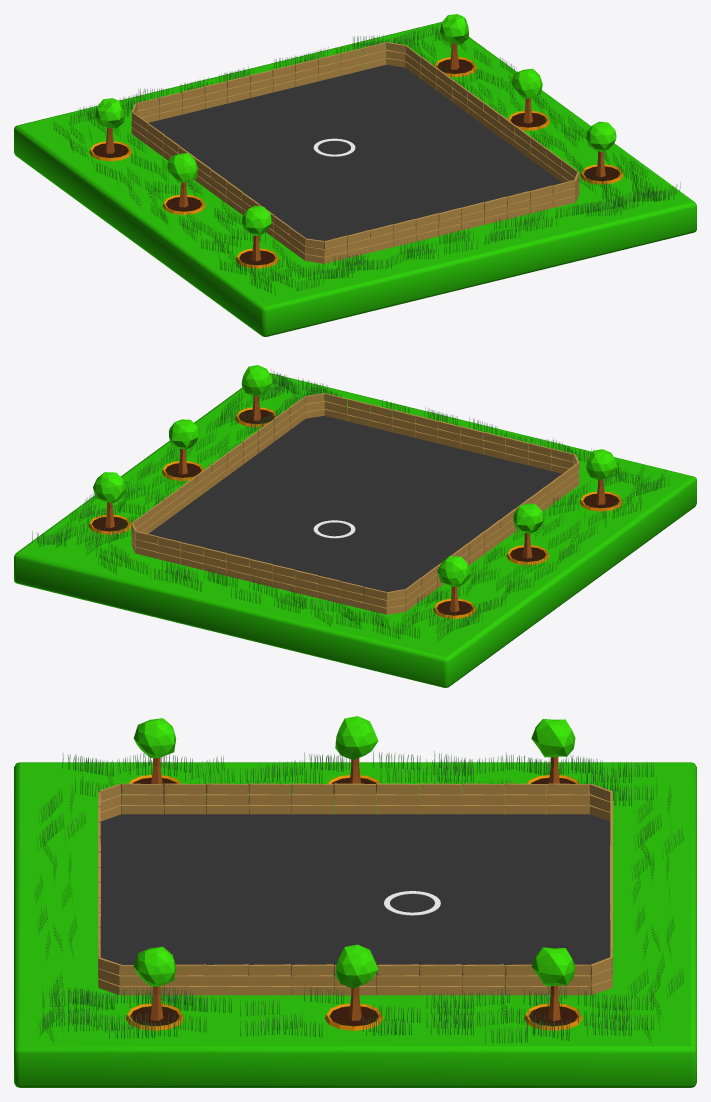
Rendered from map.glb.
3 renders of one model, top to bottom at view 1: azimuth 30°, elevation 25°; view 2: azimuth 150°, elevation 25°; view 3: azimuth 270°, elevation 25°, orthographic. The views are drawn at different scales.
Visible parts, largest first — view 1: Ground, Plane, Cube, grassplane1, Tree.001, Tree.004, Tree.005, Tree.002, Tree, Tree.003, Torus.006, Torus.005 (+4 smaller); view 2: Ground, Plane, Cube, grassplane1, Tree.004, Tree.001, Tree, Tree.003, Tree.005, Tree.002, Torus.005, Torus.004 (+4 smaller); view 3: Ground, Plane, Cube, grassplane1, Tree.002, Tree.001, Tree, Tree.005, Tree.004, Tree.003, Torus.002, Torus.001 (+1 smaller).
Part boxes in pixels (x1,y1,x2,y2): Ground: [14, 22, 696, 336]; Plane: [149, 64, 561, 256]; Cube: [131, 42, 579, 263]; grassplane1: [53, 24, 680, 294]; Tree.001: [440, 14, 468, 69]; Tree.004: [95, 98, 124, 153]; Tree.005: [167, 152, 197, 207]; Tree.002: [512, 68, 542, 123]; Tree: [586, 121, 616, 177]; Tree.003: [242, 205, 271, 261]; Torus.006: [89, 141, 132, 161]; Torus.005: [162, 195, 205, 214]; Ground: [14, 373, 696, 687]; Plane: [149, 415, 562, 608]; Cube: [131, 393, 579, 614]; grassplane1: [32, 371, 668, 640]; Tree.004: [437, 556, 470, 612]; Tree.001: [93, 472, 125, 528]; Tree: [241, 365, 272, 420]; Tree.003: [586, 449, 617, 504]; Tree.005: [513, 503, 543, 558]; Tree.002: [169, 419, 198, 474]; Torus.005: [506, 545, 549, 565]; Torus.004: [579, 491, 622, 511]; Ground: [14, 762, 696, 1087]; Plane: [100, 814, 610, 994]; Cube: [98, 783, 612, 995]; grassplane1: [34, 751, 683, 1044]; Tree.002: [335, 944, 378, 1020]; Tree.001: [531, 947, 575, 1020]; Tree: [133, 946, 176, 1020]; Tree.005: [335, 716, 378, 783]; Tree.004: [531, 718, 575, 783]; Tree.003: [133, 718, 176, 784]; Torus.002: [325, 1003, 383, 1030]; Torus.001: [524, 1003, 582, 1030].
Bounding box in the file's own units: 24 × 4.33 × 24.
Materials: 9 (1 with a texture image).
